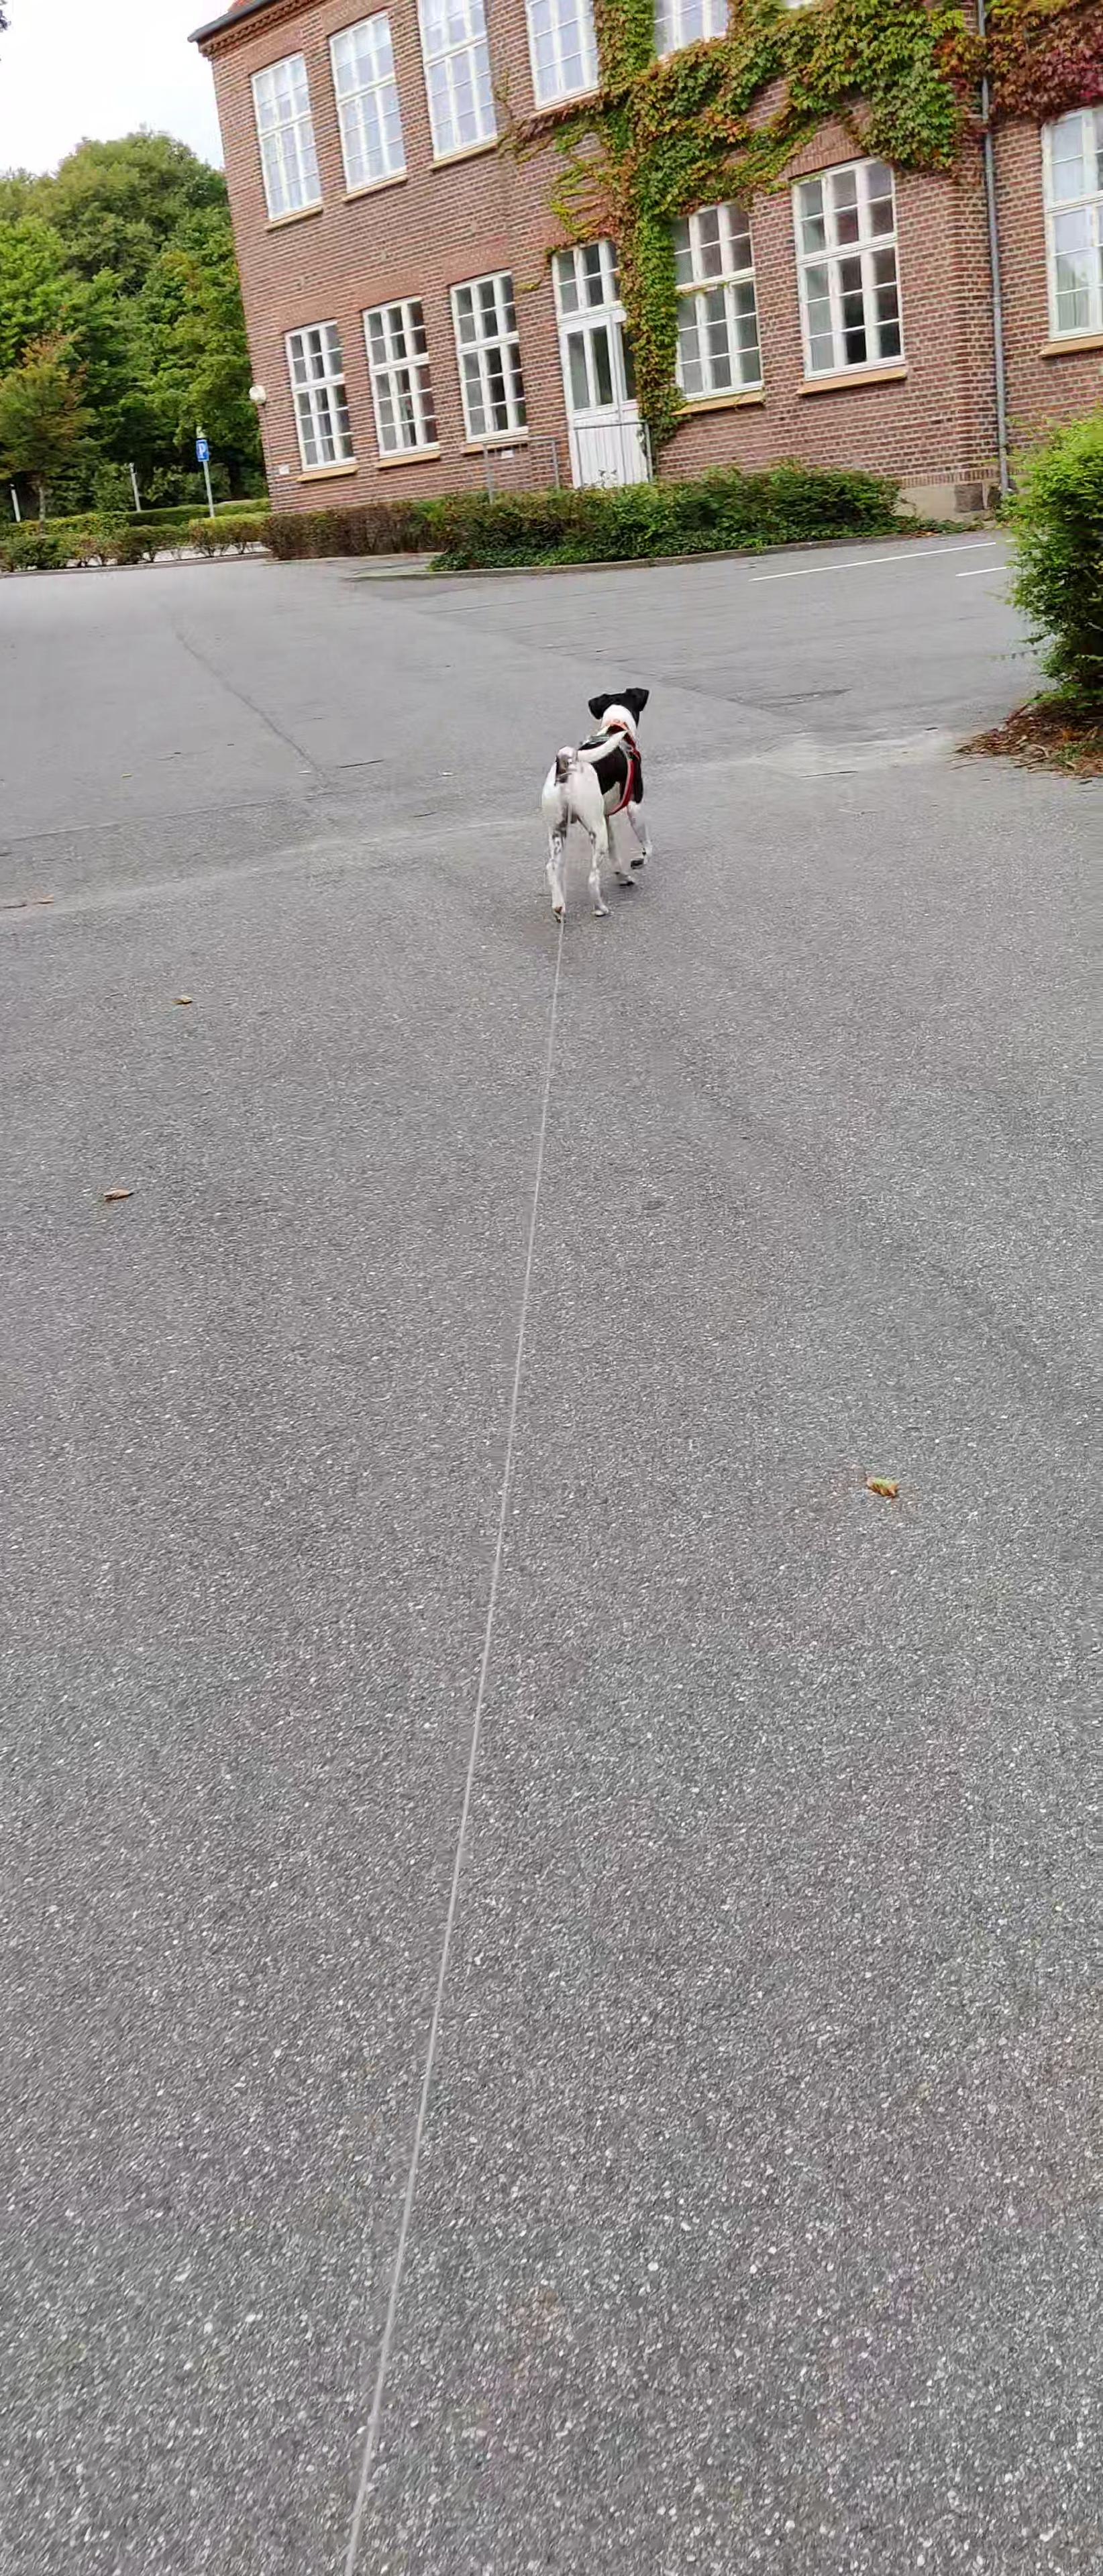Dog: (534, 685, 669, 927)
